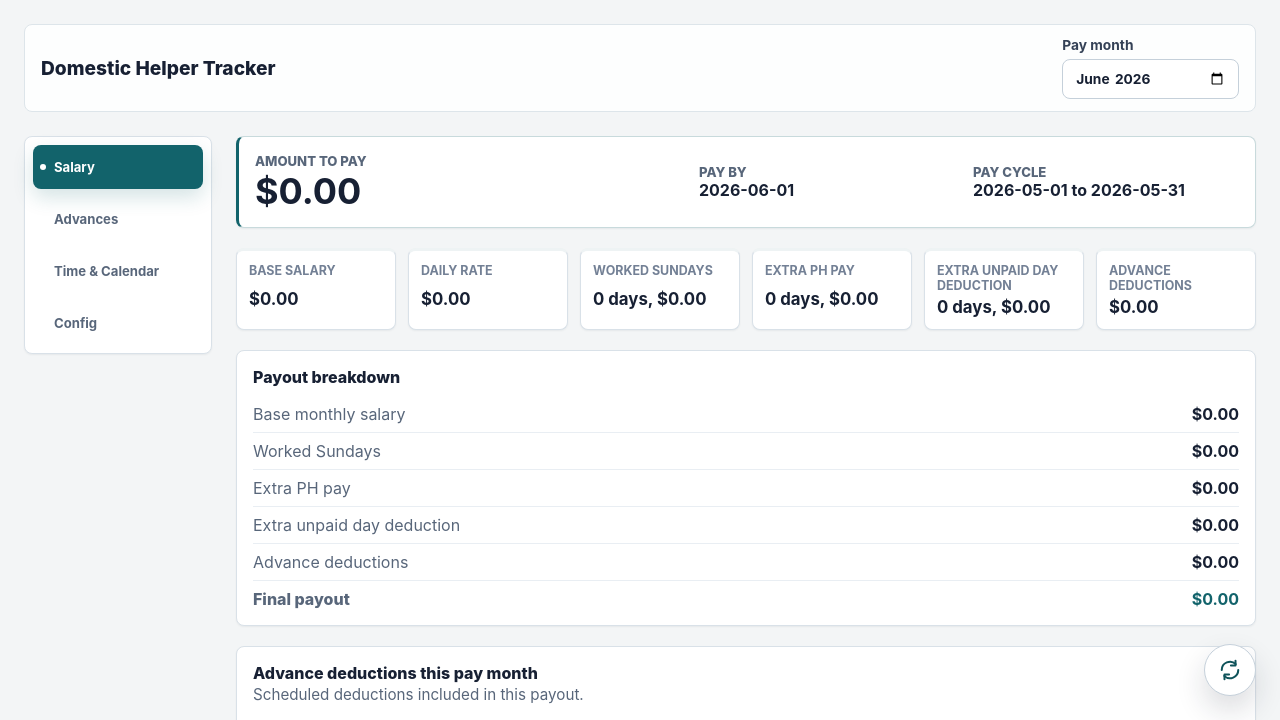
it: App › loads cached connected sheet records without starting OAuth on page load
Step 1. Click the button "Config" → [118, 323], box [33,301,203,345]
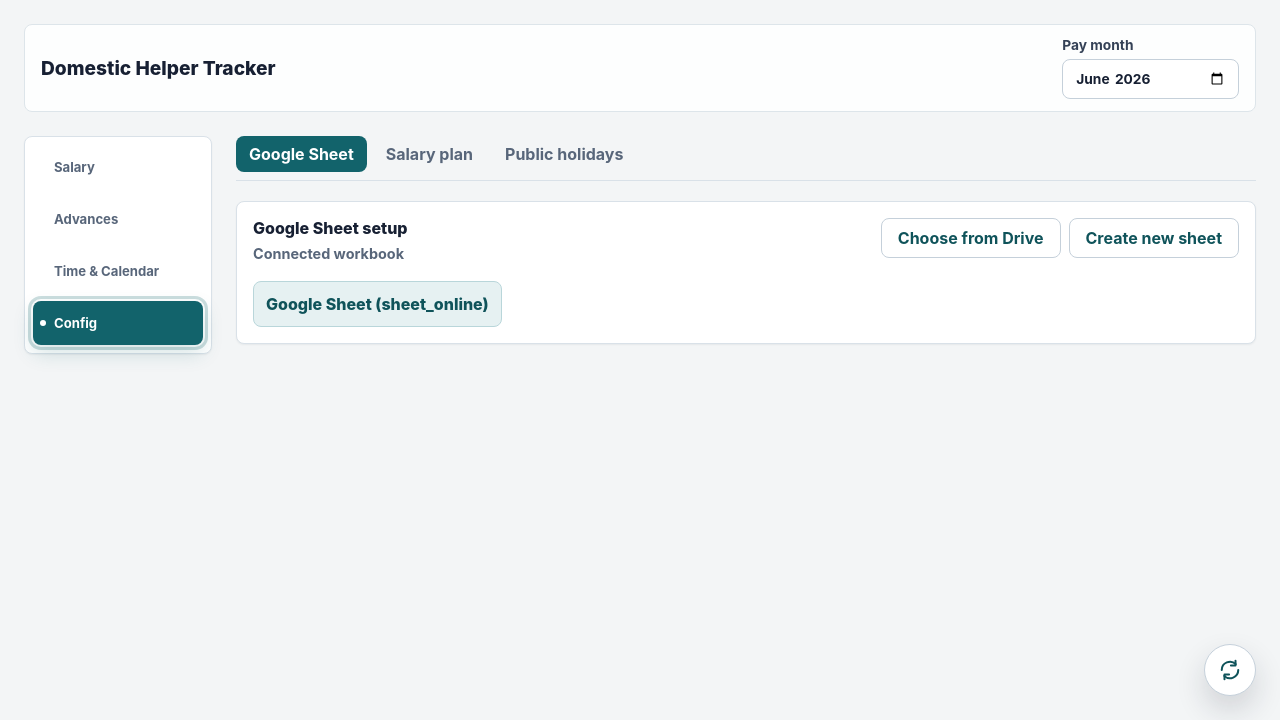
Step 2. Click the button "Salary plan" → [429, 154], box [373,136,486,172]
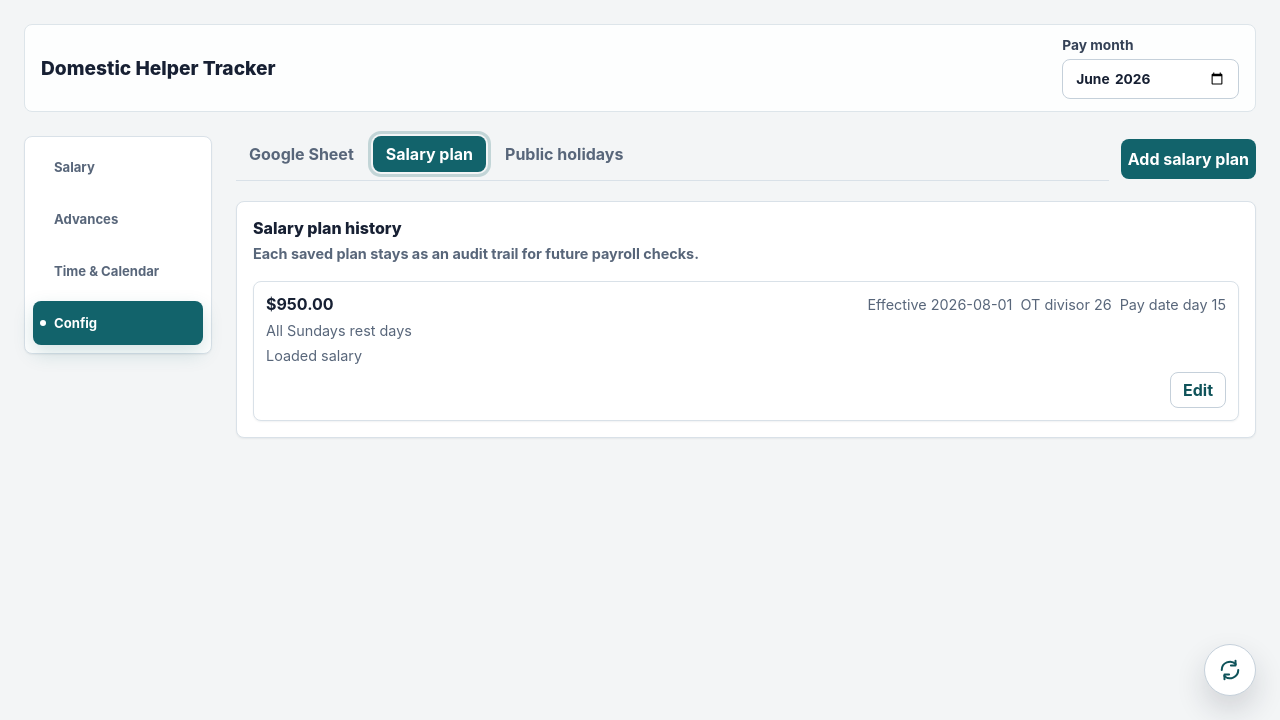
Expected: the text "Loaded salary" is shown, [266,347,362,364]
